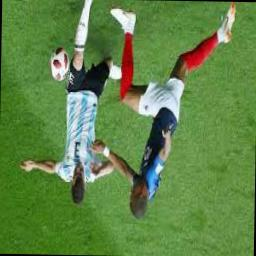football: (49, 46, 69, 82)
